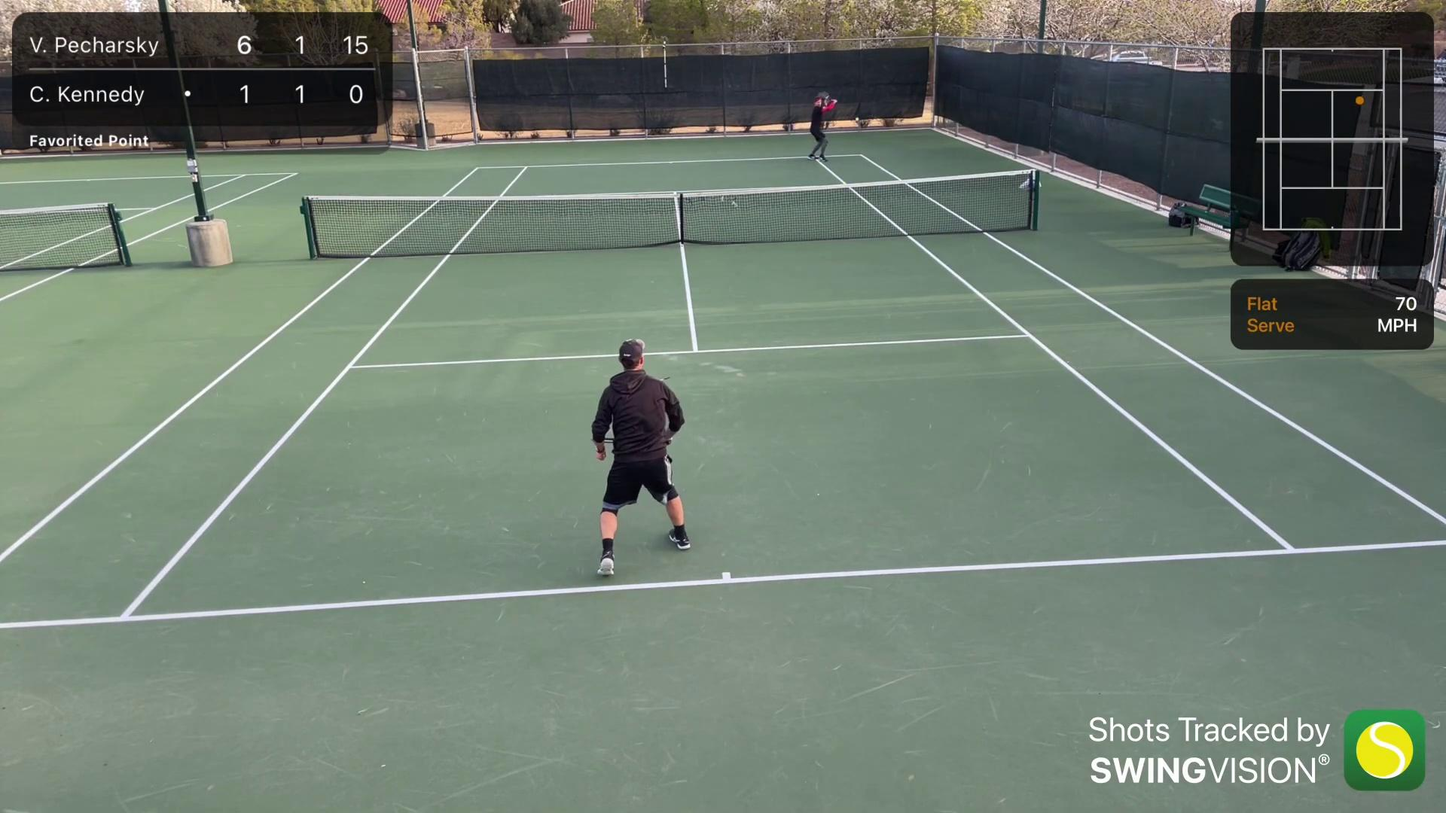ball: (853, 116, 861, 123)
